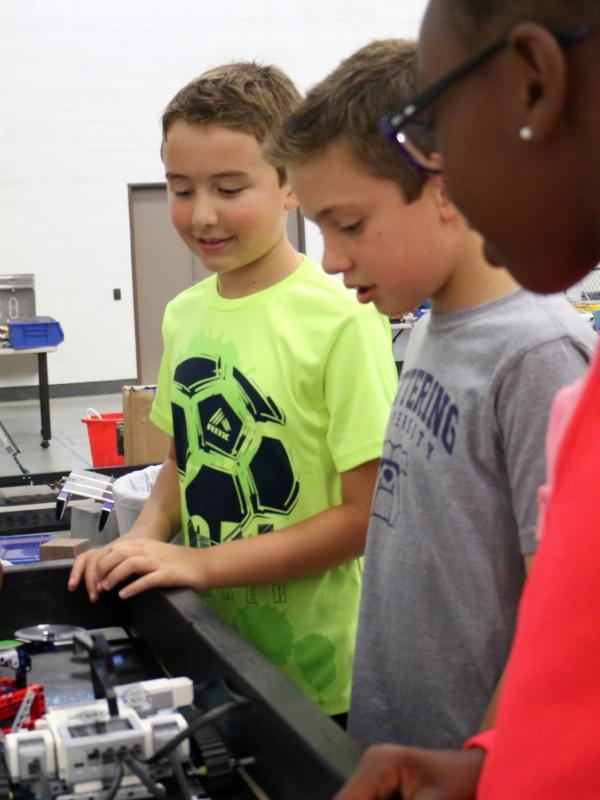robot: (0, 519, 423, 800)
